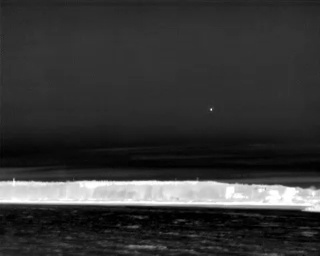HELICOPTER: (207, 105, 215, 115)
